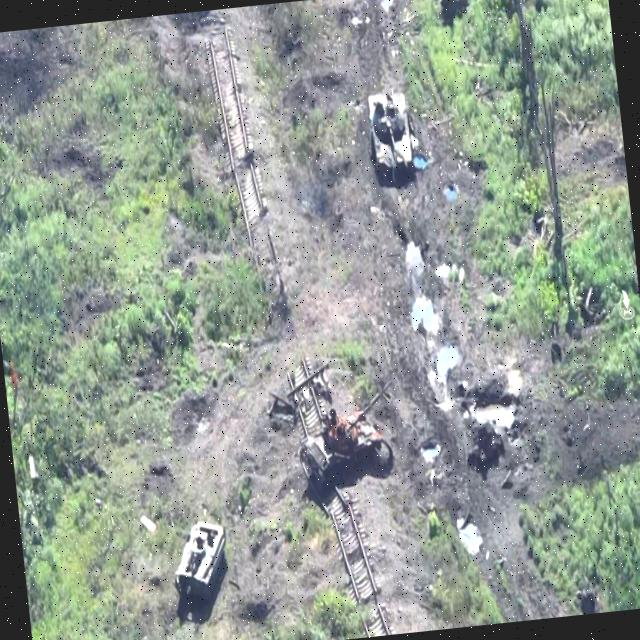AIFV: (168, 516, 235, 614), (366, 88, 418, 181)
Destroyed: (291, 376, 402, 495)
